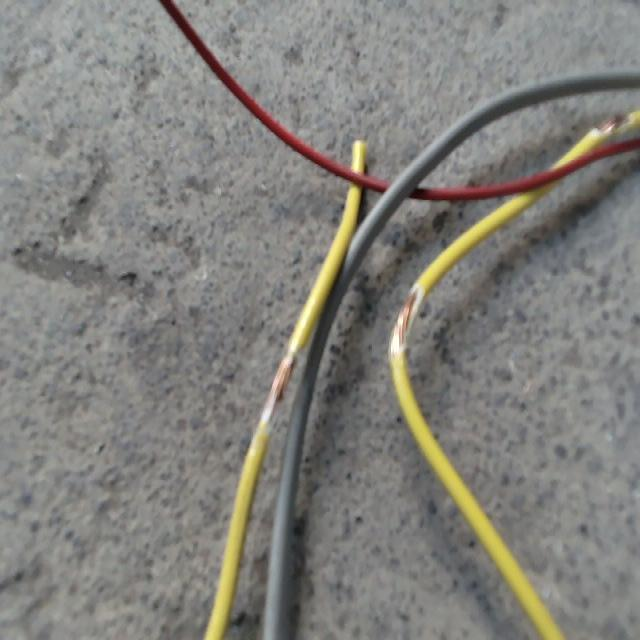-: (261, 345, 296, 431), (388, 283, 423, 357), (590, 109, 635, 135)
